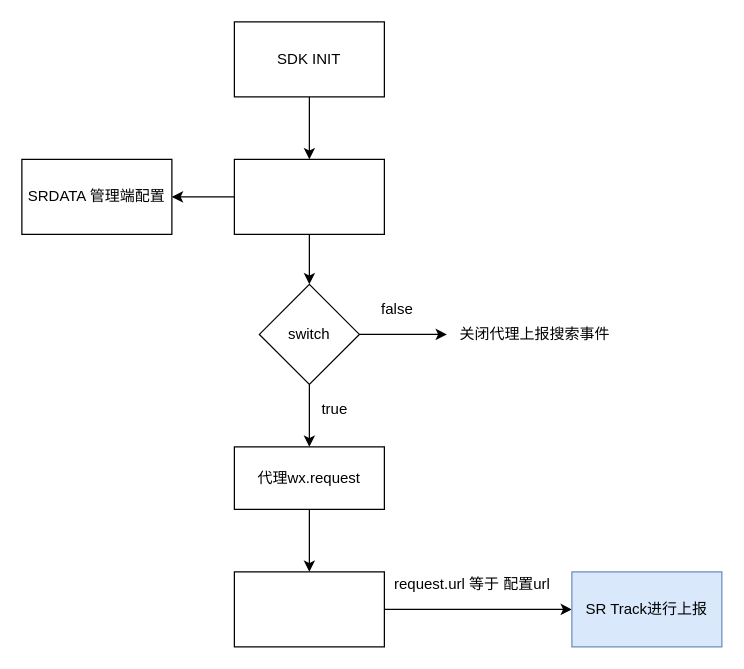
This 744x669 diagram has some shape labels left out. The box of each missing label's shape, as (x1, y1, x2, y2) in pixels:
Hook 搜索接口: (233, 571, 384, 647)
Request请求远端代理: (233, 158, 384, 234)
